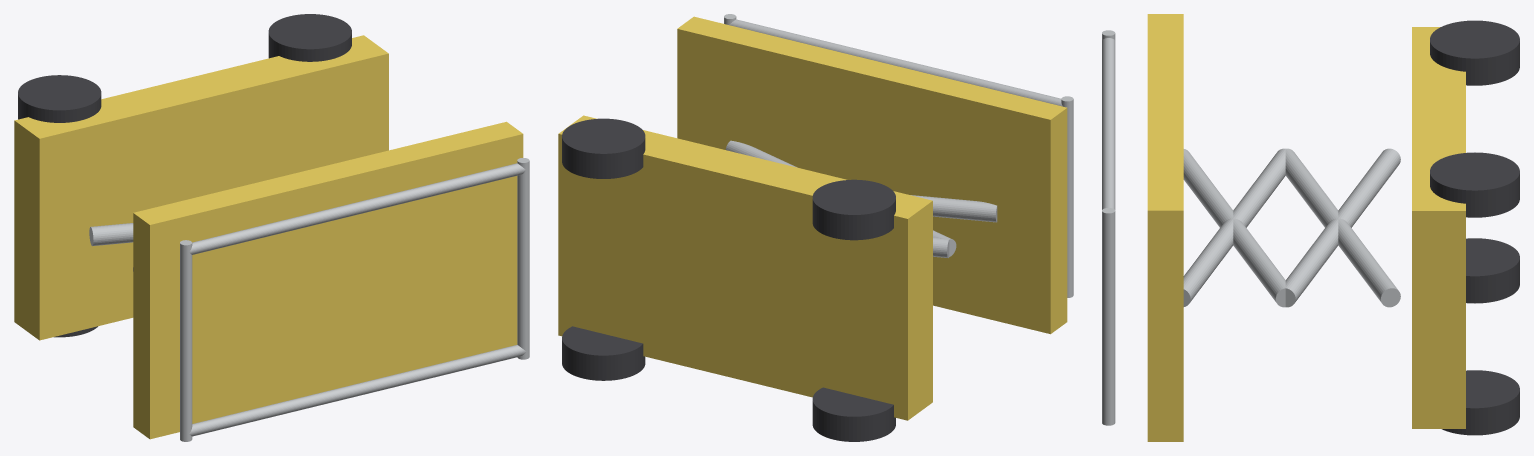
File: scissor_lift.glb
3 views of the same model, side by side, from view 1: azimuth 30°, elevation 25°; view 2: azimuth 150°, elevation 25°; view 3: azimuth 270°, elevation 25° (orthographic). The views are drawn at different scales.
Visible parts, largest first — view 1: part_9, part_0, part_13, part_12, part_4, part_2, part_10, part_11, part_5; view 2: part_0, part_9, part_4, part_2, part_1, part_3, part_13, part_10, part_8, part_7; view 3: part_0, part_9, part_4, part_2, part_5, part_6, part_7, part_8, part_3, part_1, part_11, part_13.
Boxes of the visible parts, <box> form: part_9: <box>133,121,523,439</box>; part_0: <box>14,35,388,340</box>; part_13: <box>189,163,526,254</box>; part_12: <box>189,345,525,436</box>; part_4: <box>268,14,351,61</box>; part_2: <box>18,75,101,122</box>; part_10: <box>180,240,192,441</box>; part_11: <box>517,158,529,359</box>; part_5: <box>89,223,133,246</box>; part_0: <box>558,115,932,420</box>; part_9: <box>677,16,1067,334</box>; part_4: <box>562,118,645,178</box>; part_2: <box>812,179,895,240</box>; part_1: <box>812,387,895,441</box>; part_3: <box>562,326,645,380</box>; part_13: <box>729,19,1062,106</box>; part_10: <box>1061,96,1073,297</box>; part_8: <box>910,195,997,222</box>; part_7: <box>725,140,956,256</box>; part_0: <box>1412,27,1465,428</box>; part_9: <box>1147,14,1183,441</box>; part_4: <box>1430,152,1519,217</box>; part_2: <box>1430,20,1519,85</box>; part_5: <box>1285,148,1400,307</box>; part_6: <box>1285,148,1400,307</box>; part_7: <box>1183,148,1285,306</box>; part_8: <box>1183,149,1285,307</box>; part_3: <box>1442,370,1519,435</box>; part_1: <box>1466,238,1519,303</box>; part_11: <box>1102,208,1115,425</box>; part_13: <box>1102,38,1115,209</box>.
Bounding box in the file's own units: 1.55 × 0.9 × 1.39.
